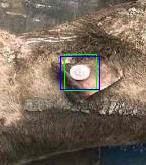text: (64, 54, 96, 90)
